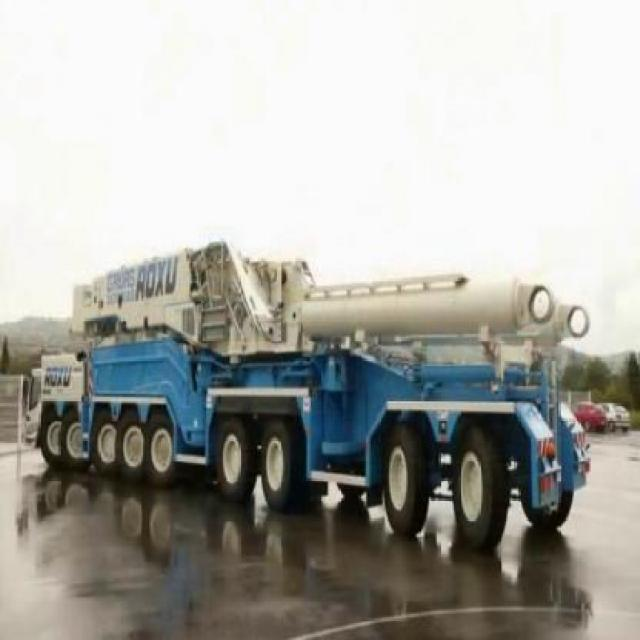Mobile Crane: (22, 244, 589, 548)
